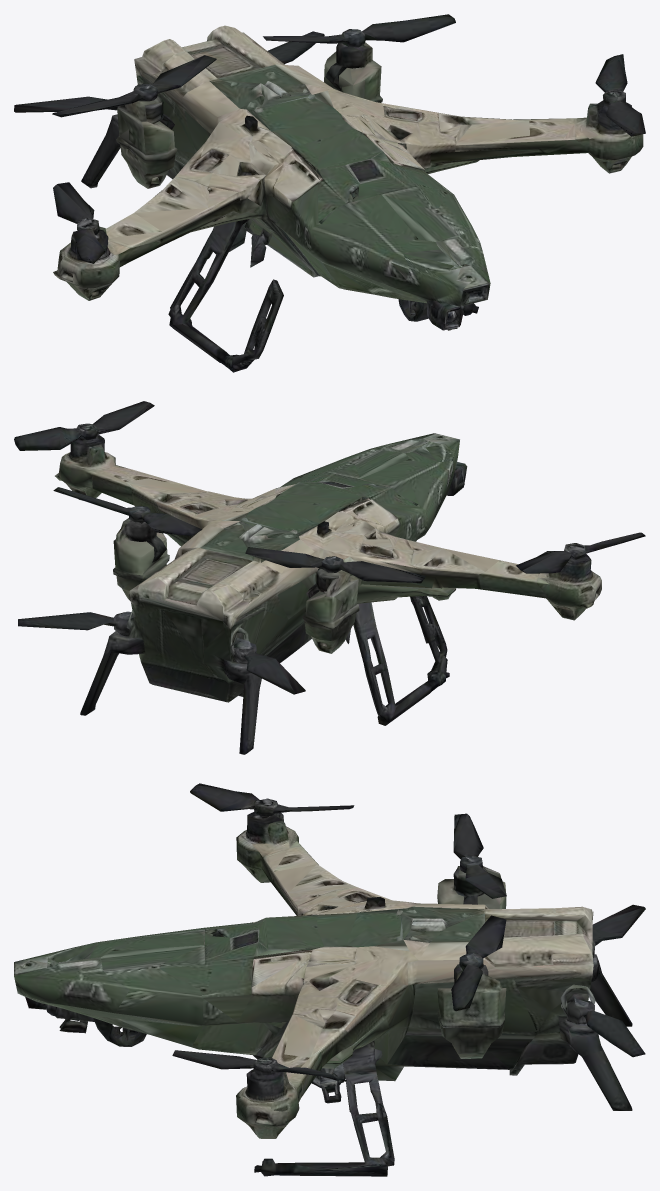
File: t243_dra_lod0m.glb
3 views of the same model, one above another, from view 1: azimuth 30°, elevation 25°; view 2: azimuth 150°, elevation 25°; view 3: azimuth 270°, elevation 25° (orthographic). The views are drawn at different scales.
Size of the model in its own units: 2.4 by 0.8013 by 2.12.
1 material, 1 textured.
